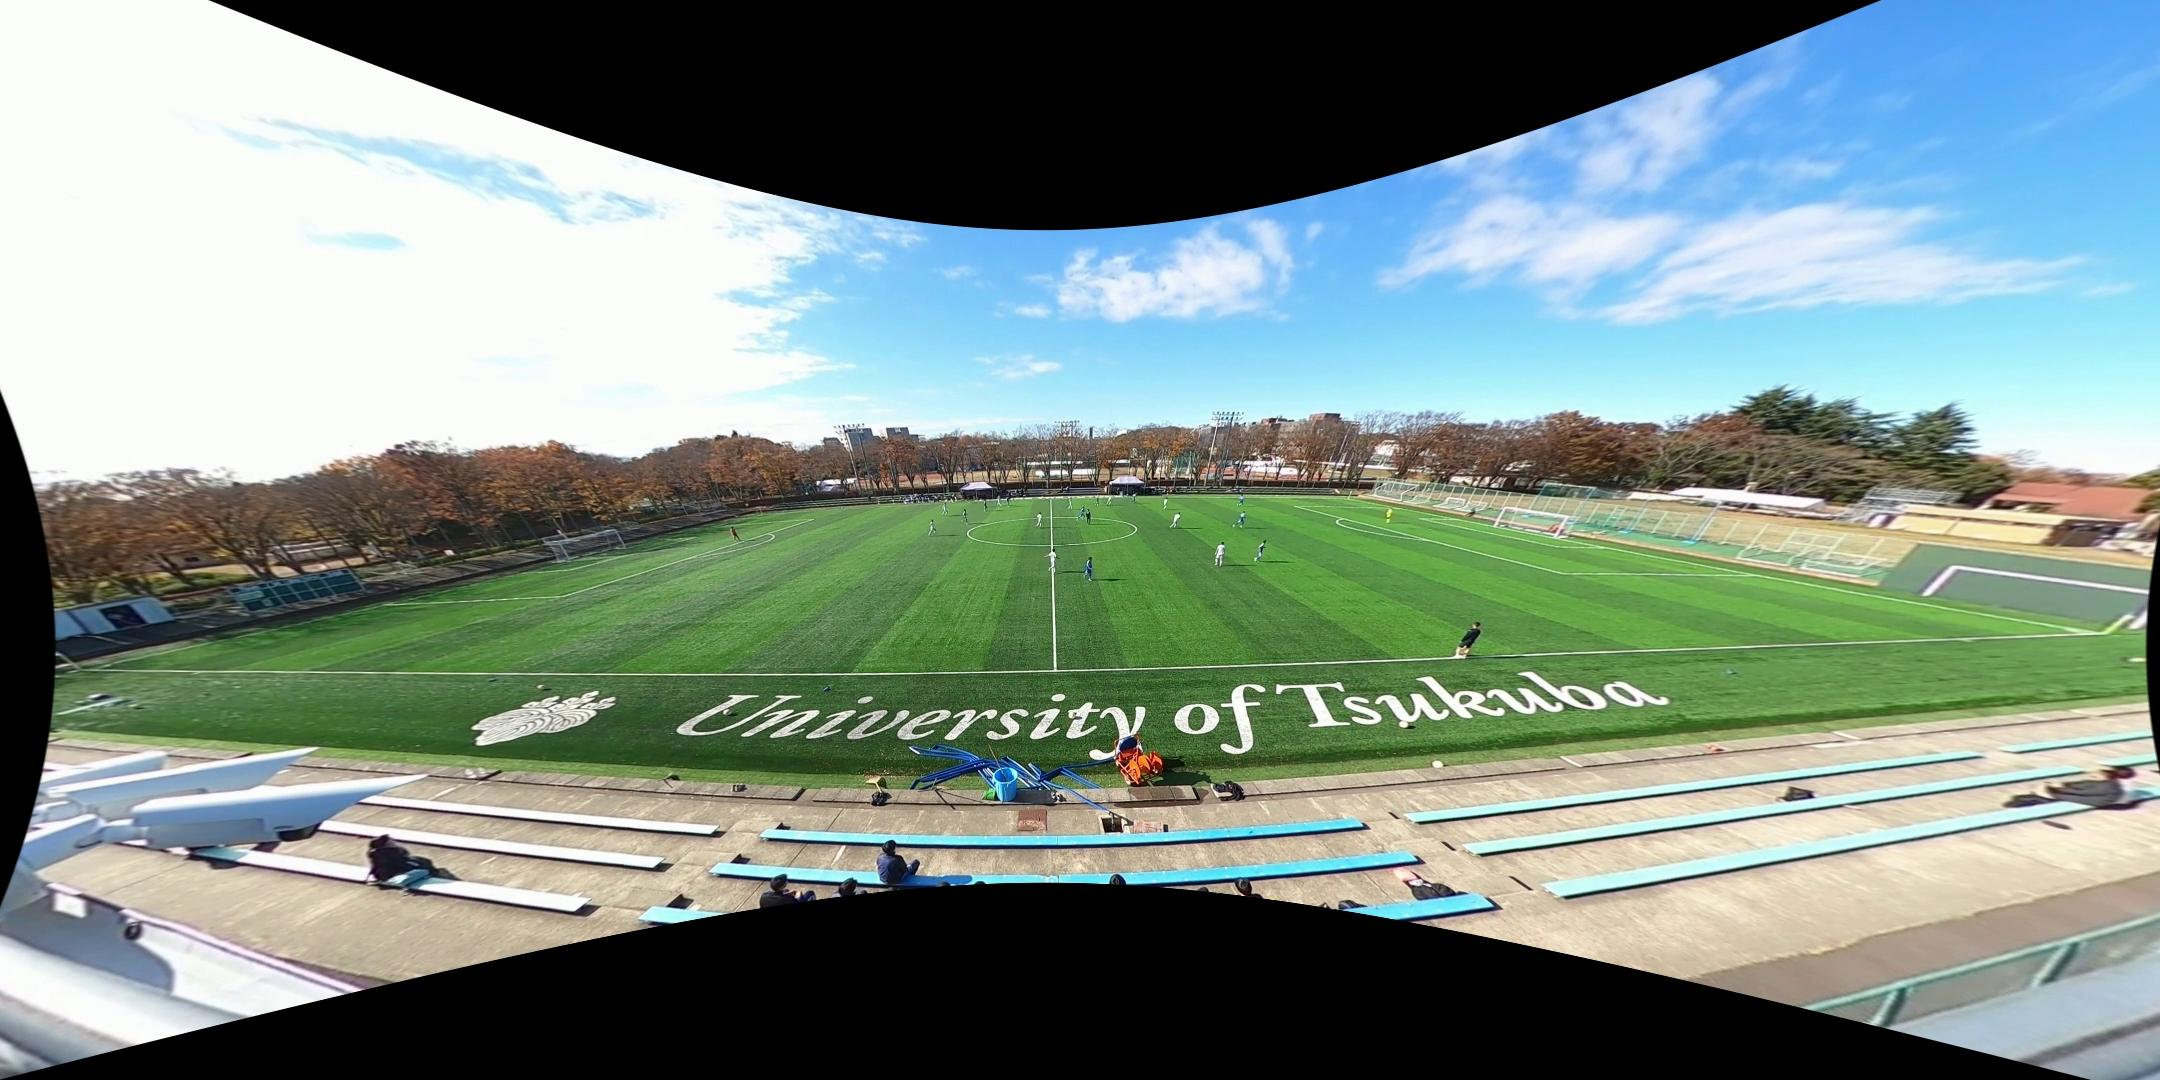person: (1455, 621, 1482, 659), (1044, 548, 1061, 573), (1253, 540, 1267, 562), (1214, 542, 1226, 567), (1082, 557, 1094, 581), (1233, 511, 1247, 529), (1170, 512, 1181, 529), (730, 527, 742, 542), (928, 519, 937, 536), (1077, 506, 1087, 521), (1385, 507, 1393, 524), (1036, 512, 1044, 528), (961, 509, 969, 525), (941, 503, 949, 516), (1237, 494, 1245, 507), (1086, 508, 1092, 525), (1130, 493, 1138, 504), (1106, 494, 1113, 506), (1163, 497, 1169, 510), (1068, 497, 1074, 510), (983, 499, 989, 511), (996, 495, 1002, 506), (1095, 495, 1100, 506), (1006, 496, 1010, 507)
sports ball: (1430, 757, 1446, 773), (1396, 719, 1411, 732), (1066, 710, 1079, 720), (721, 707, 732, 718), (537, 682, 547, 692)
